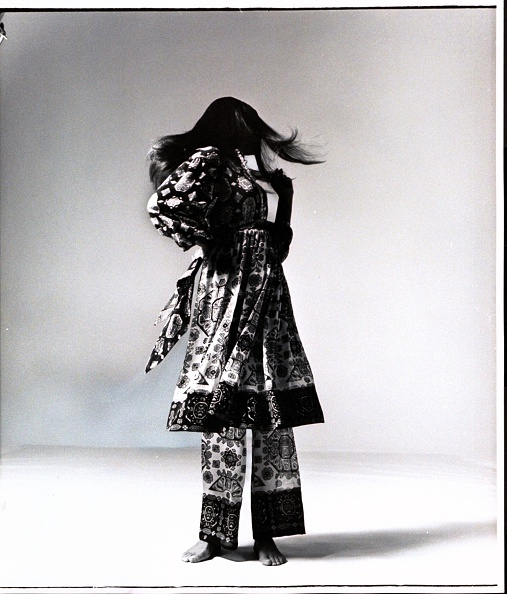em pe: (128, 81, 323, 580)
